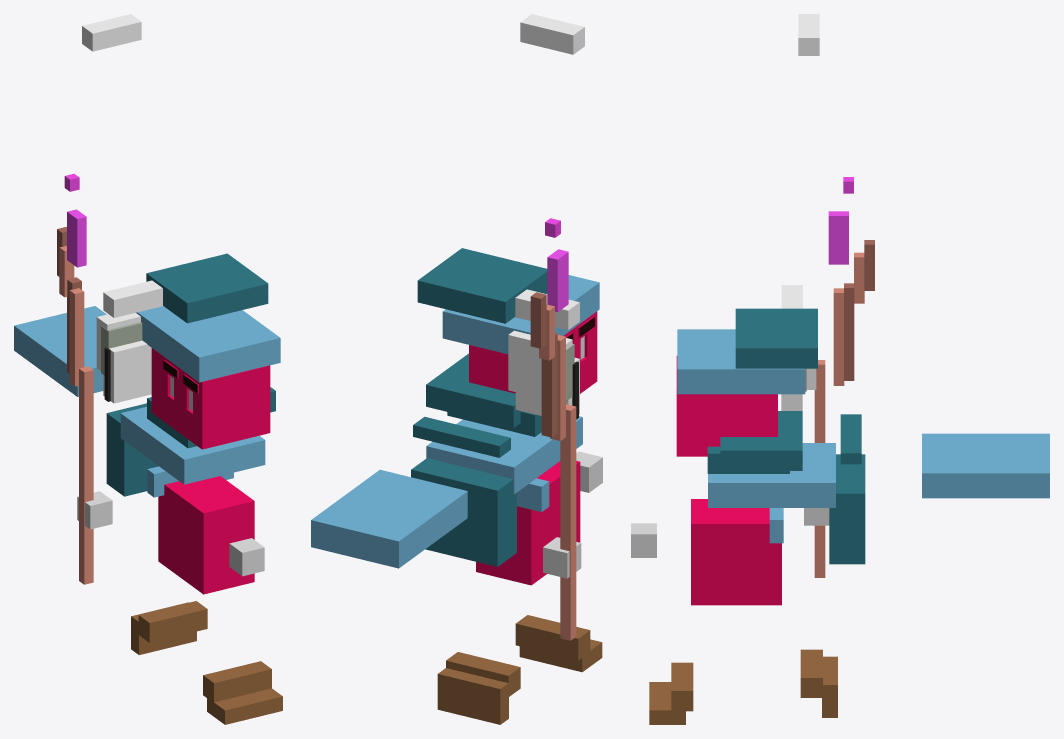
File: Character_.glb
3 views of the same model, side by side, from view 1: azimuth 30°, elevation 25°; view 2: azimuth 150°, elevation 25°; view 3: azimuth 270°, elevation 25° (orthographic). The views are drawn at different scales.
Parts seen in each view (by area): view 1: Body, Head, Cube.013, Cube.014, Cube, Cube.019, Cube.021, Cube.008, Cube.005, Cube.017, Cube.018, Cube.016 (+12 smaller); view 2: Cube.019, Cube.008, Cube.014, Cube, Body, Cube.009, Cube.021, Cube.013, Cube.015, Head, Cube.018, Cube.012 (+15 smaller); view 3: Body, Cube.019, Cube.013, Cube, Head, Cube.014, Cube.008, Cube.009, Cube.021, Cube.016, Cube.018, Cube.024 (+7 smaller).
Boxes of the visible parts, box(x1,y1,x2,y2) form: Body: box(158, 476, 254, 594); Head: box(151, 348, 270, 449); Cube.013: box(136, 306, 280, 382); Cube.014: box(146, 253, 268, 323); Cube: box(120, 407, 265, 484); Cube.019: box(14, 306, 106, 396); Cube.021: box(79, 366, 93, 584); Cube.008: box(106, 403, 158, 496); Cube.005: box(103, 340, 151, 403); Cube.017: box(138, 601, 207, 642); Cube.018: box(203, 661, 271, 702); Cube.016: box(207, 688, 282, 724); Cube.019: box(311, 469, 467, 568); Cube.008: box(411, 458, 516, 566); Cube.014: box(417, 248, 547, 323); Cube: box(426, 416, 582, 494); Body: box(476, 461, 580, 585); Cube.009: box(426, 353, 520, 427); Cube.021: box(560, 404, 576, 640); Cube.013: box(442, 275, 599, 354); Cube.015: box(437, 668, 508, 724); Head: box(469, 311, 597, 393); Cube.018: box(515, 615, 590, 660); Cube.012: box(413, 416, 510, 457); Body: box(691, 499, 781, 605); Cube.019: box(922, 433, 1049, 498); Cube.013: box(677, 329, 805, 394); Cube: box(708, 443, 835, 507); Head: box(676, 356, 777, 456); Cube.014: box(735, 308, 817, 368); Cube.008: box(829, 454, 865, 564); Cube.009: box(720, 411, 802, 470); Cube.021: box(814, 360, 825, 577); Cube.016: box(649, 682, 685, 724); Cube.018: box(671, 662, 693, 711); Cube.024: box(828, 211, 848, 264).
Size of the model in its own units: 0.8628 by 3.71 by 2.15.
